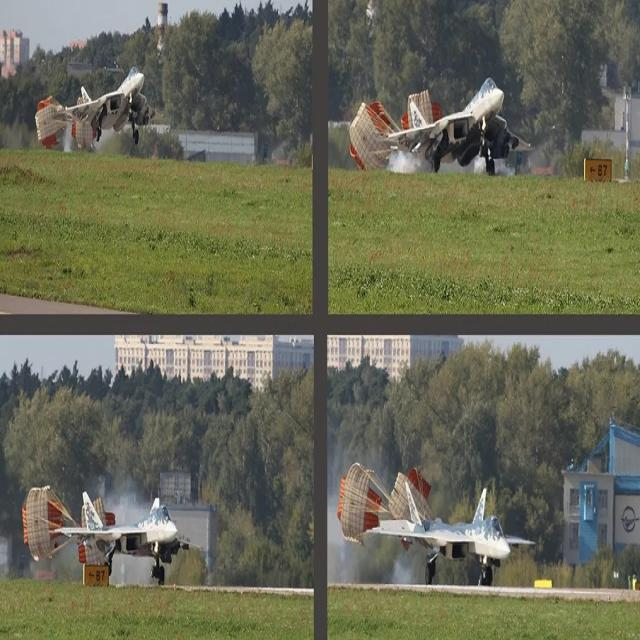MIL_Plane: (366, 481, 536, 586), (379, 77, 535, 175), (48, 490, 202, 586), (64, 66, 166, 146)
